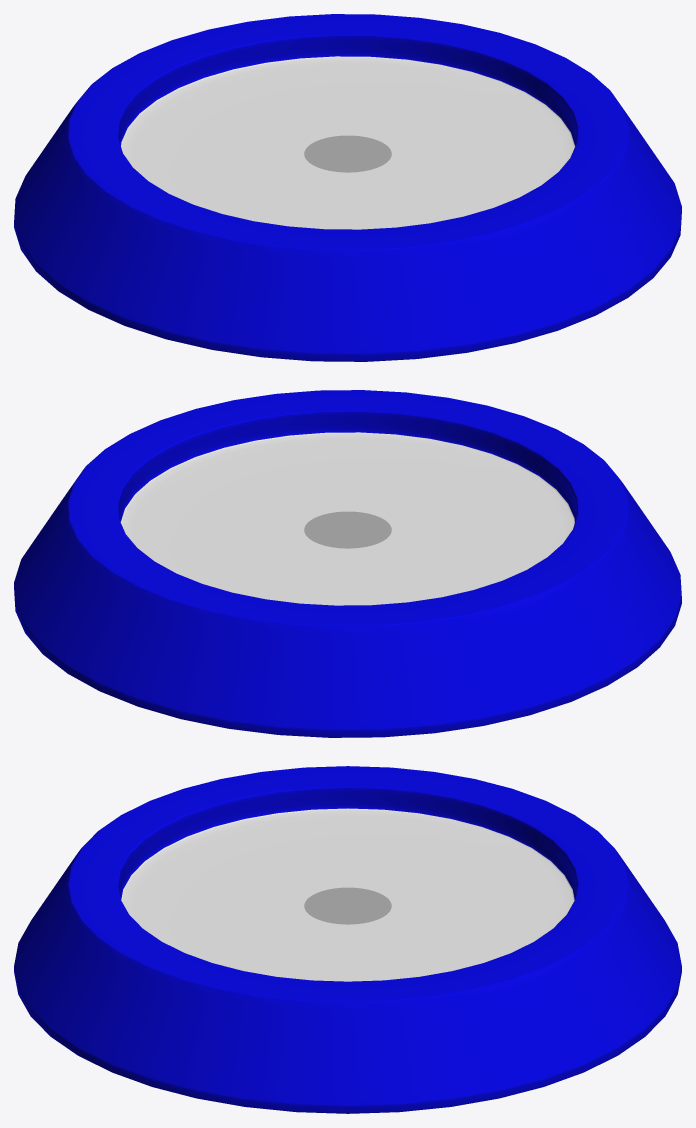
Rendered from platforme.fbx.
3 renders of one model, top to bottom at view 1: azimuth 30°, elevation 25°; view 2: azimuth 150°, elevation 25°; view 3: azimuth 270°, elevation 25°, orthographic.
Visible parts, largest first — view 1: pCylinder1; view 2: pCylinder1; view 3: pCylinder1.
Boxes of the visible parts, box(x1,y1,x2,y2) form: pCylinder1: box(14, 14, 681, 361); pCylinder1: box(14, 390, 681, 737); pCylinder1: box(14, 766, 681, 1113).
Size of the model in its own units: 1083 by 160 by 1083.
